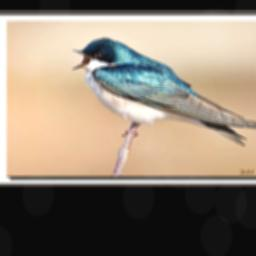Swallow: (68, 35, 256, 147)
